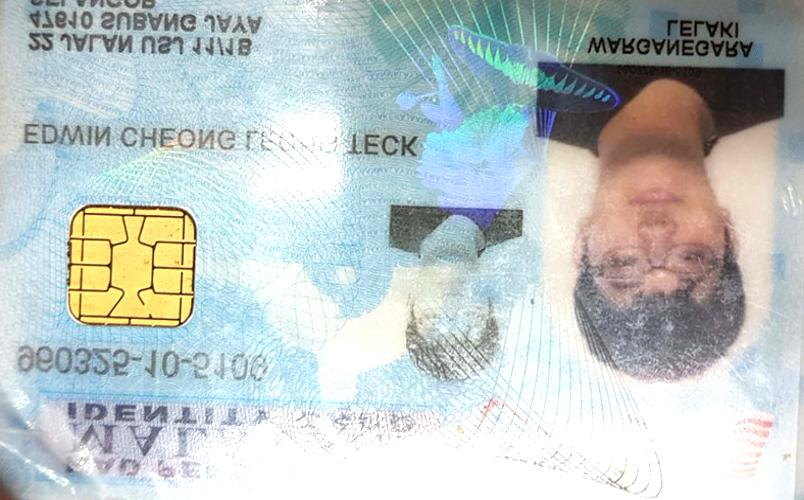hologramB: (417, 3, 536, 205)
